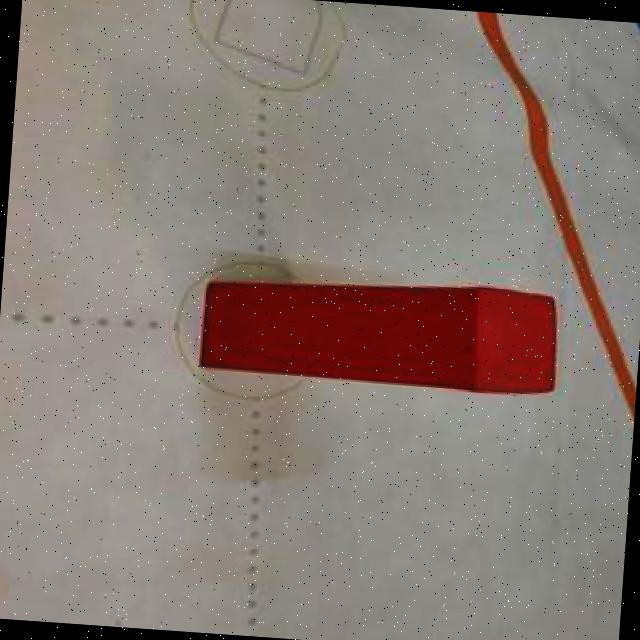redbox: (203, 268, 562, 400)
